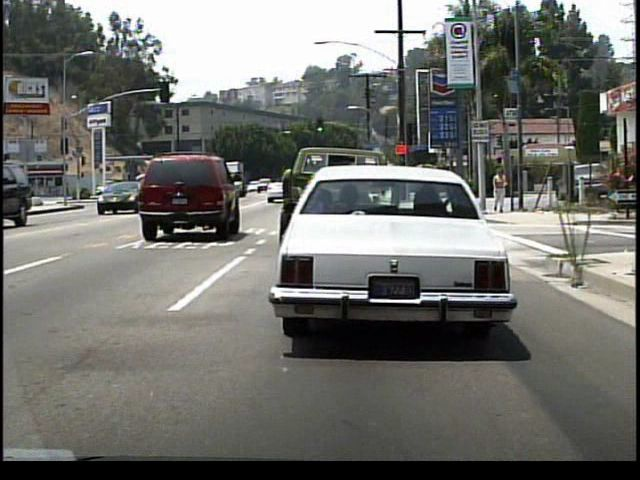person: (492, 167, 509, 214)
